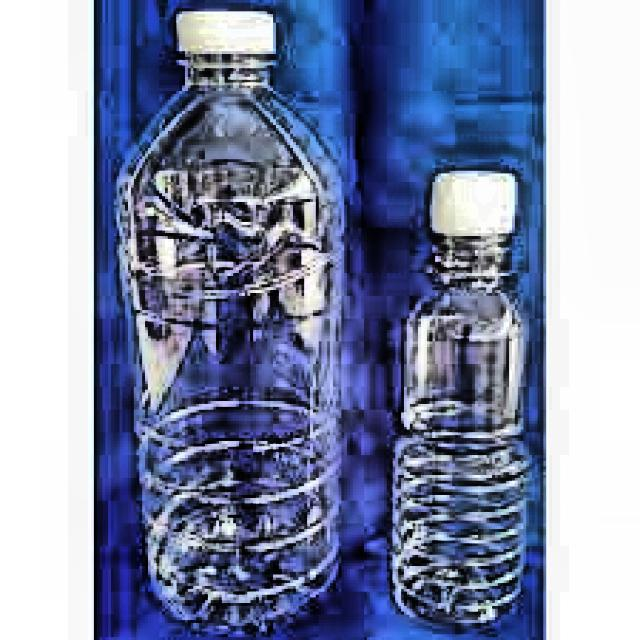plastic bottle: (118, 46, 342, 632), (392, 171, 525, 624)
